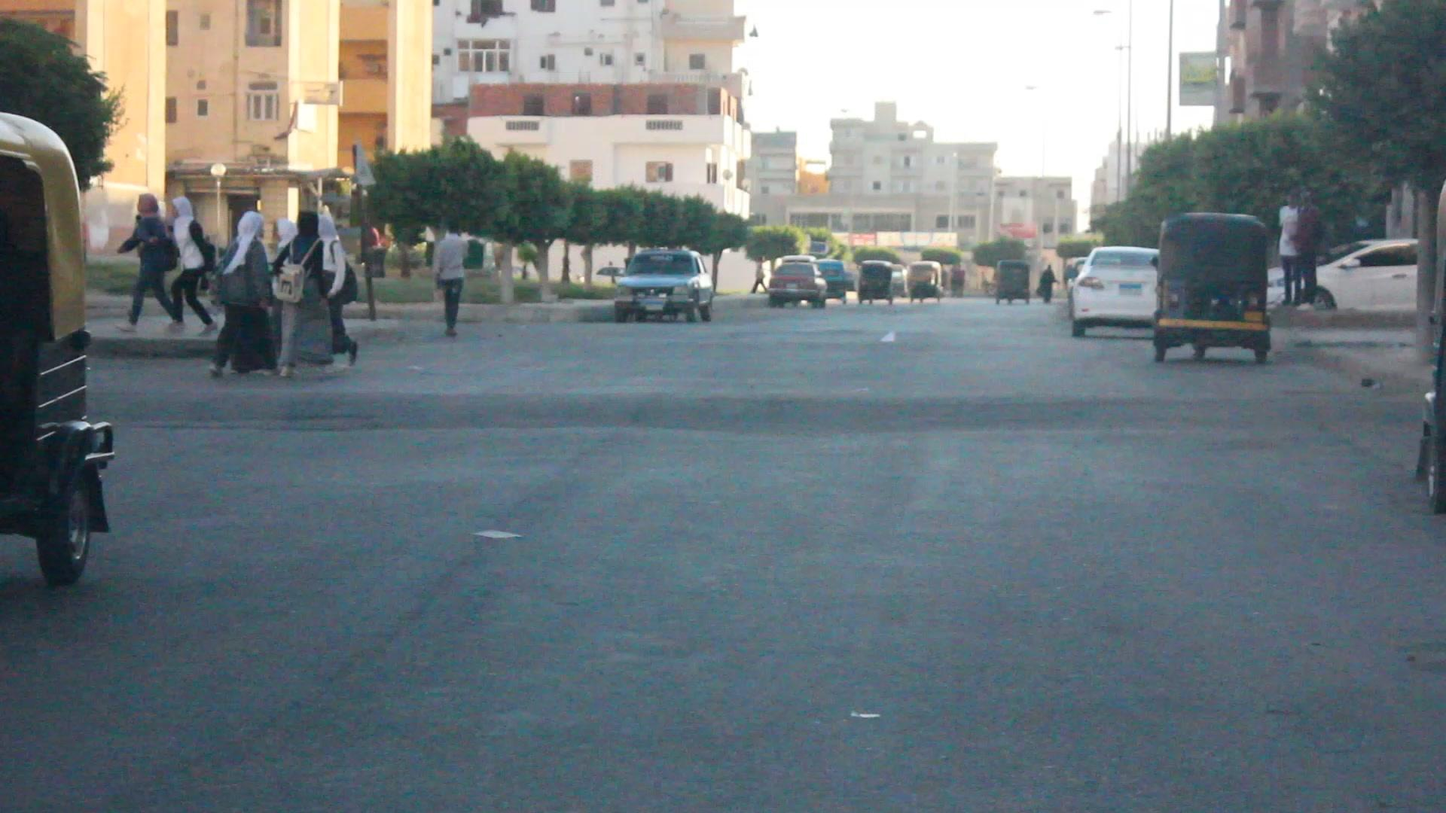Bump: (88, 361, 1427, 424)
